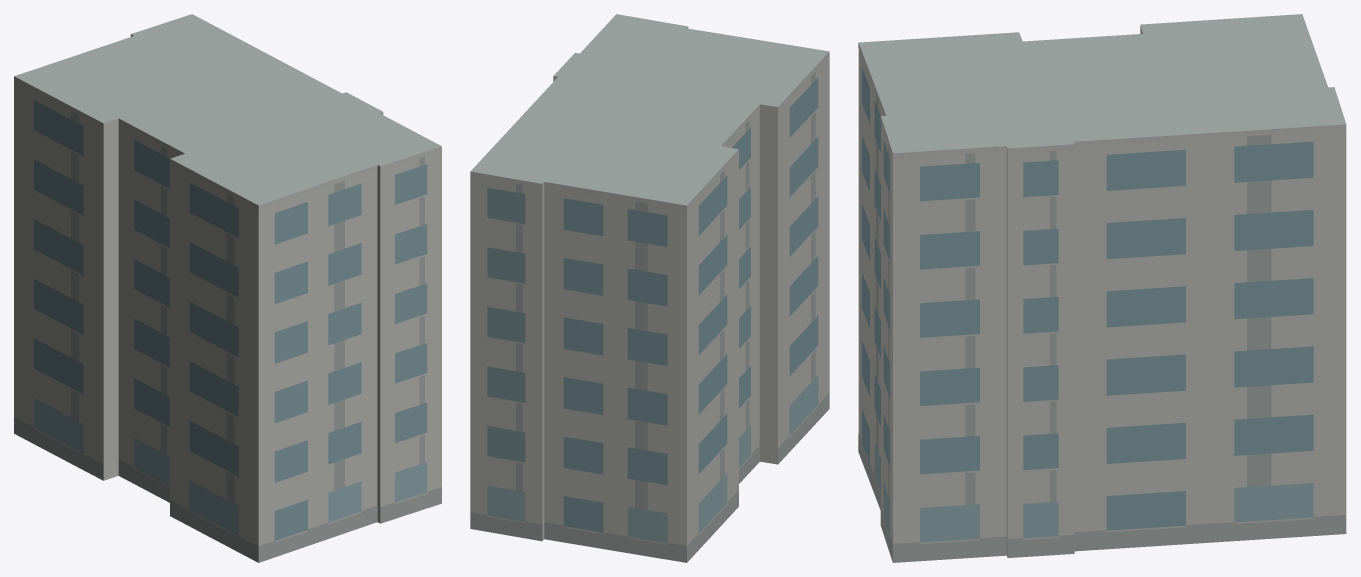
File: survey-upis-32826475.glb
The picture shows the model from 3 angles, left to right: view 1: azimuth 30°, elevation 25°; view 2: azimuth 150°, elevation 25°; view 3: azimuth 270°, elevation 25°; orthographic projection. The views are drawn at different scales.
Parts seen in each view (by area): view 1: survey-upis-32826475.tmp; view 2: survey-upis-32826475.tmp; view 3: survey-upis-32826475.tmp.
Boxes of the visible parts, bbox=[...] form: survey-upis-32826475.tmp: bbox=[14, 14, 441, 562]; survey-upis-32826475.tmp: bbox=[470, 14, 829, 562]; survey-upis-32826475.tmp: bbox=[858, 14, 1346, 562].
Size of the model in its own units: 13.43 by 18.4 by 19.88.
